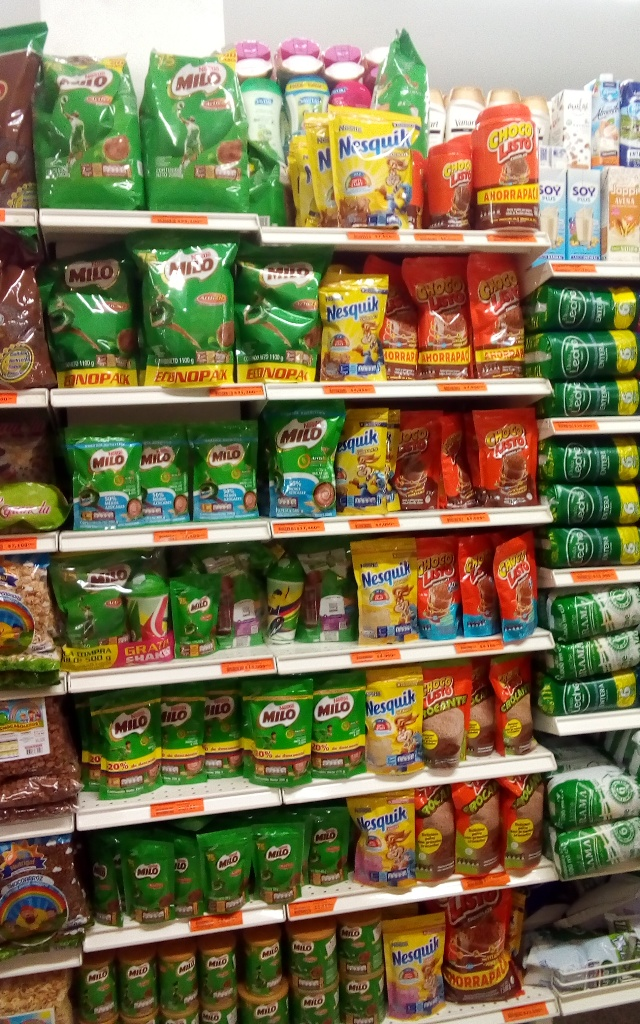COL0170102DYP25000: (490, 655, 540, 757)
COL0170103DYP20000: (468, 406, 544, 508)
COL0170103DYP40000: (394, 253, 476, 375)
COL0170103TRR00100: (469, 100, 544, 230)
COL0170103TRR30000: (422, 136, 475, 231)
COL0170104DYP20000: (484, 531, 548, 643)
COL0170203DYP10000: (195, 831, 260, 916)
COL0170203DYP25000: (244, 673, 311, 786)
COL0170203DYP50000: (50, 553, 133, 670)
COL0170203LAT20000: (240, 932, 286, 992)
COL0170203LAT40000: (285, 923, 345, 986)
COL0170205DYP20000: (64, 417, 144, 528)
COL0170303DYP20000: (349, 534, 424, 651)
COL0170305DYP20000: (344, 790, 422, 895)
COL0170306DYP20000: (361, 664, 428, 775)
